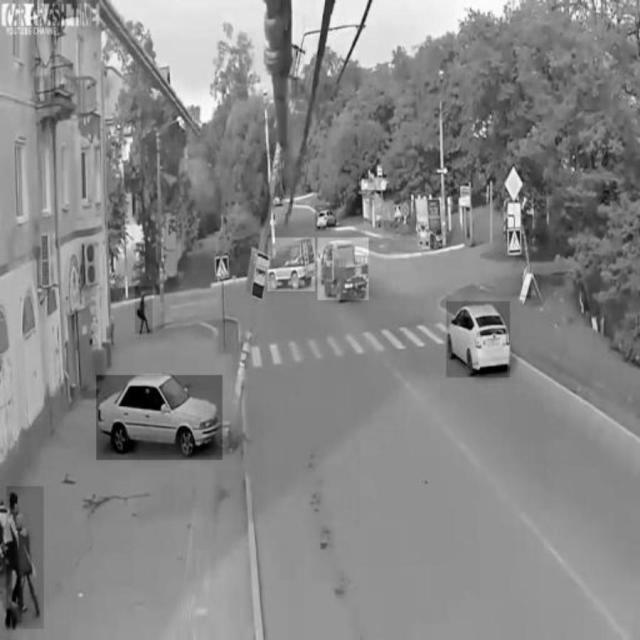person: (7, 487, 44, 629), (135, 287, 152, 334)
vehicle: (97, 375, 223, 459), (446, 301, 510, 377), (318, 238, 369, 300), (267, 238, 315, 292), (315, 206, 335, 232)
